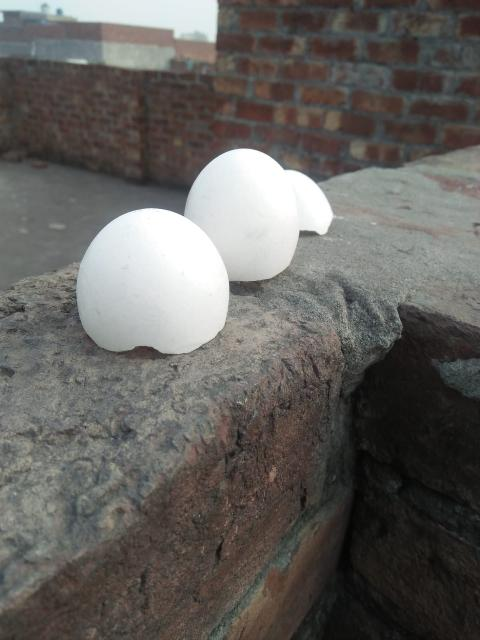Roto: (75, 206, 230, 355), (185, 148, 301, 284), (276, 167, 337, 236)
